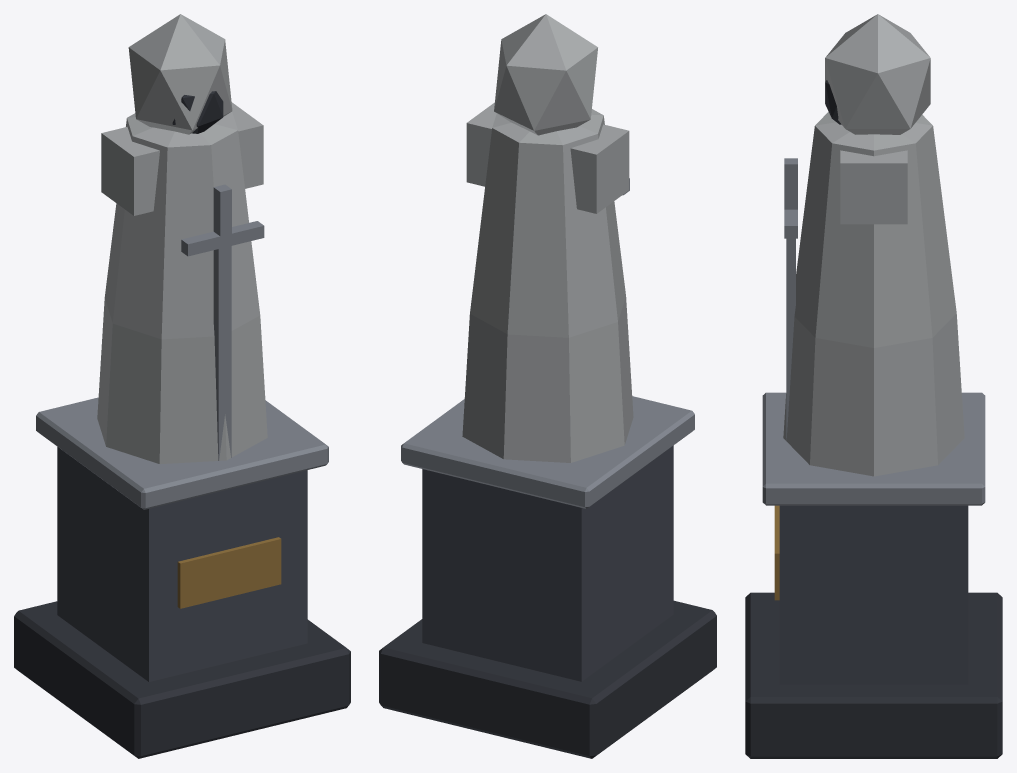
Rendered from gothic_statue.glb.
3 renders of one model, left to right at view 1: azimuth 30°, elevation 25°; view 2: azimuth 150°, elevation 25°; view 3: azimuth 270°, elevation 25°, orthographic. The views are drawn at different scales.
Visible parts, largest first — view 1: gothic_statue; view 2: gothic_statue; view 3: gothic_statue.
Part boxes in pixels (box(x1,y1,x2,y2)): gothic_statue: box(14, 14, 350, 758); gothic_statue: box(379, 14, 716, 758); gothic_statue: box(745, 14, 1002, 758).
Size of the model in its own units: 1.5 by 4.46 by 1.5.
